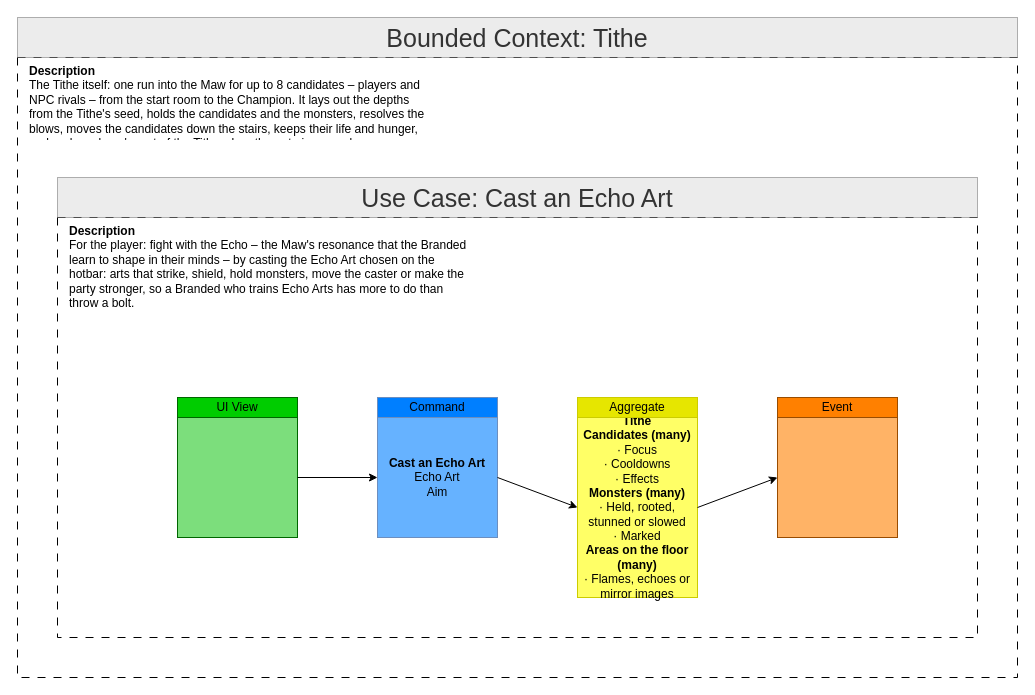
Some shapes in this 1035 by 695 pixel diagram are drawn without their labels. Here are the shapes that lost their labels. From the top down, the centre of each, then its label:
(x=237, y=477): Depth Player
(x=837, y=477): Echo Art cast
